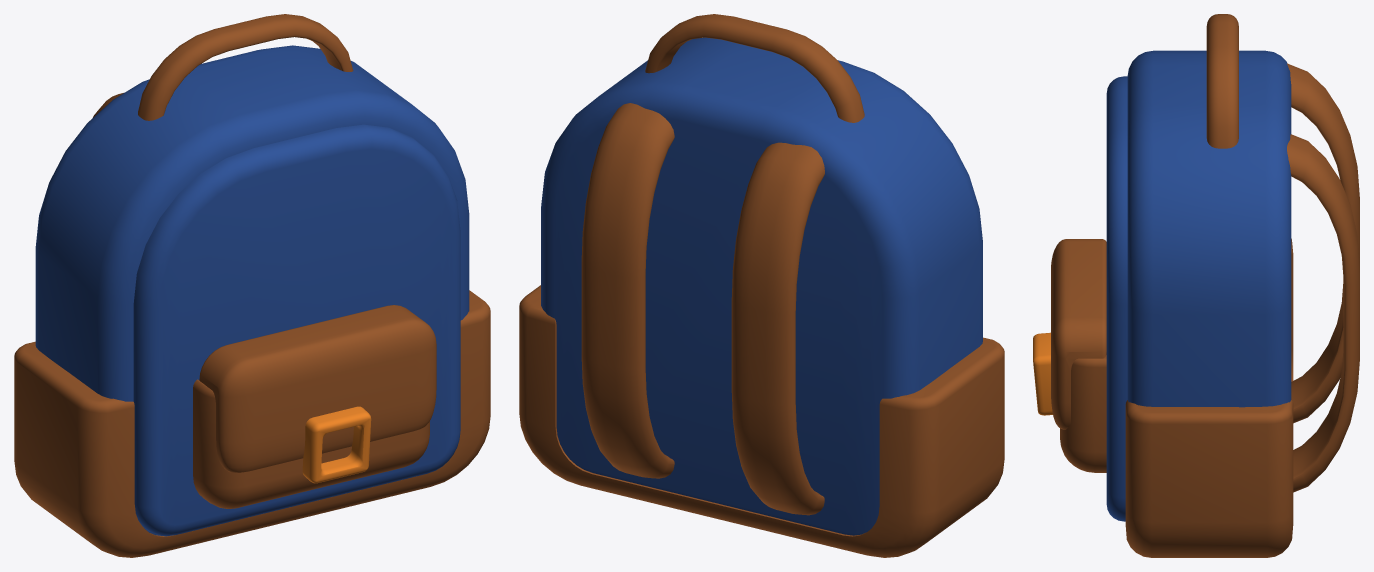
3 renders of one model, left to right at view 1: azimuth 30°, elevation 25°; view 2: azimuth 150°, elevation 25°; view 3: azimuth 270°, elevation 25°, orthographic. The views are drawn at different scales.
Parts seen in each view (by area): view 1: Bag base, Bag sides, Bag pocket cover, Bag pocket, Top Strip, Backal; view 2: Bag base, Bag sides, Strip 1, Strip 2, Top Strip; view 3: Bag base, Bag sides, Strip 2, Bag pocket cover, Strip 1, Bag pocket, Top Strip, Backal.
Part boxes in pixels (box(x1,y1,x2,y2)): Bag base: box(35, 45, 469, 536); Bag sides: box(14, 290, 490, 557); Bag pocket cover: box(199, 305, 436, 472); Bag pocket: box(193, 379, 429, 508); Top Strip: box(138, 14, 353, 120); Backal: box(302, 406, 371, 483); Bag base: box(541, 37, 982, 535); Bag sides: box(519, 285, 1004, 557); Strip 1: box(731, 142, 824, 515); Strip 2: box(581, 103, 674, 478); Top Strip: box(645, 14, 864, 122); Bag base: box(1106, 50, 1291, 521); Bag sides: box(1125, 238, 1293, 557); Strip 2: box(1287, 134, 1359, 492); Bag pocket cover: box(1051, 239, 1106, 429); Strip 1: box(1287, 63, 1359, 423); Bag pocket: box(1060, 355, 1106, 472); Top Strip: box(1206, 14, 1238, 148); Backal: box(1033, 332, 1052, 415).
Bounding box in the file's own units: 2.23 × 2.43 × 1.6.
